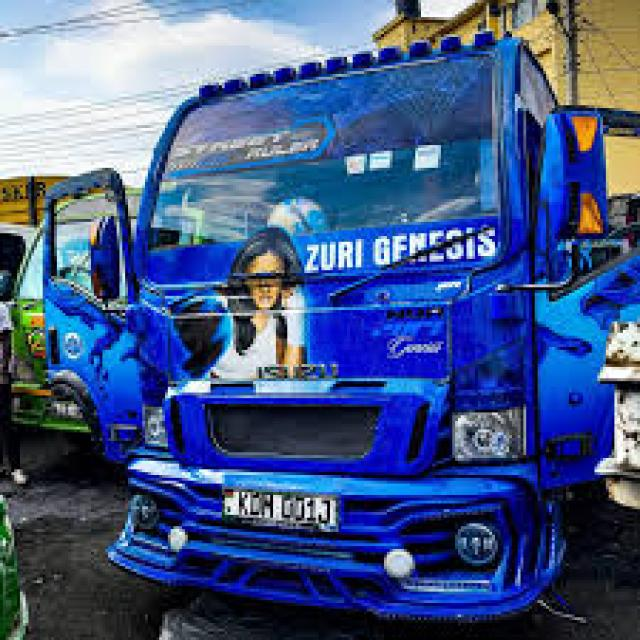bus: (16, 15, 640, 634)
